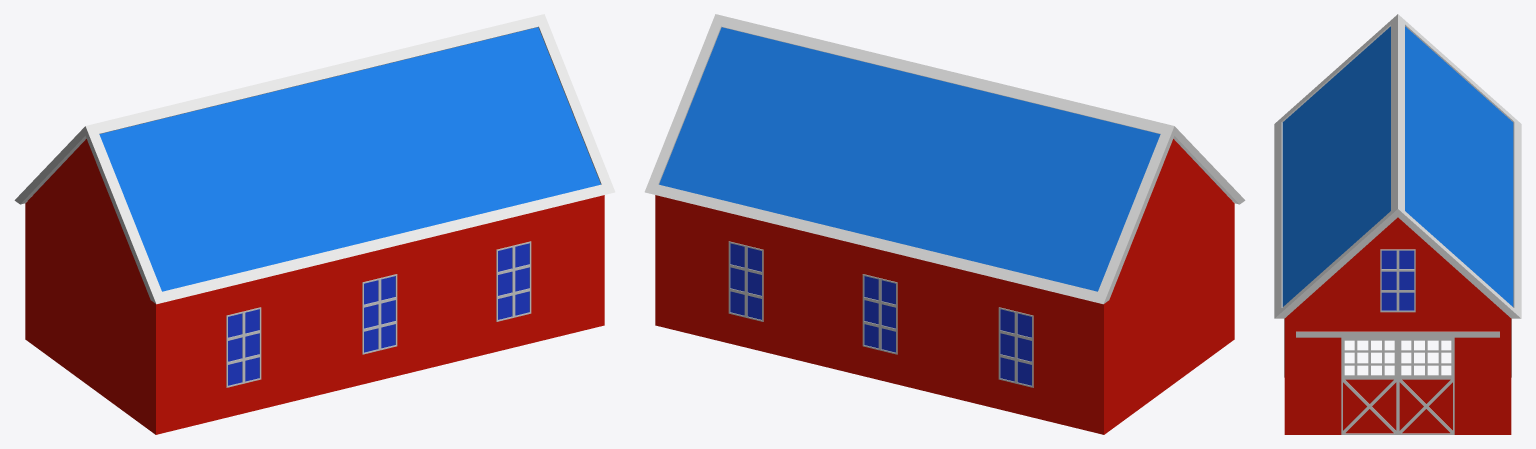
File: Barn_Mesh.fbx
3 renders of one model, left to right at view 1: azimuth 30°, elevation 25°; view 2: azimuth 150°, elevation 25°; view 3: azimuth 270°, elevation 25°, orthographic. The views are drawn at different scales.
Visible parts, largest first — view 1: Barn.001; view 2: Barn.001; view 3: Barn.001.
Part boxes in pixels (x1,y1,x2,y2): Barn.001: (14, 14, 615, 434); Barn.001: (644, 14, 1245, 434); Barn.001: (1274, 14, 1521, 434).
Bounding box in the file's own units: 954 × 1781 × 973.
